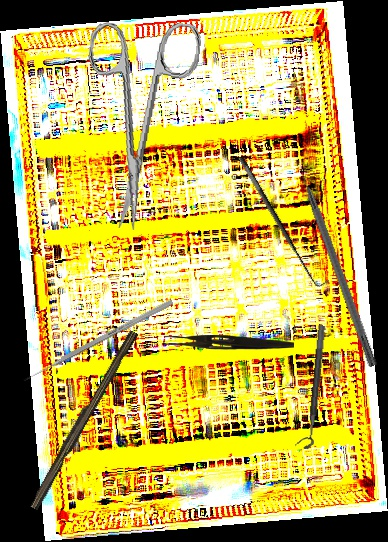Dressing Forceps: (164, 335, 294, 350)
Fixation Ring: (295, 323, 326, 451)
Hook Surgical: (291, 154, 380, 368), (236, 149, 331, 294)
Iris Scissors: (68, 12, 203, 236)
Pusher: (22, 298, 174, 384)
Scalpel Handle: (26, 327, 139, 512)
